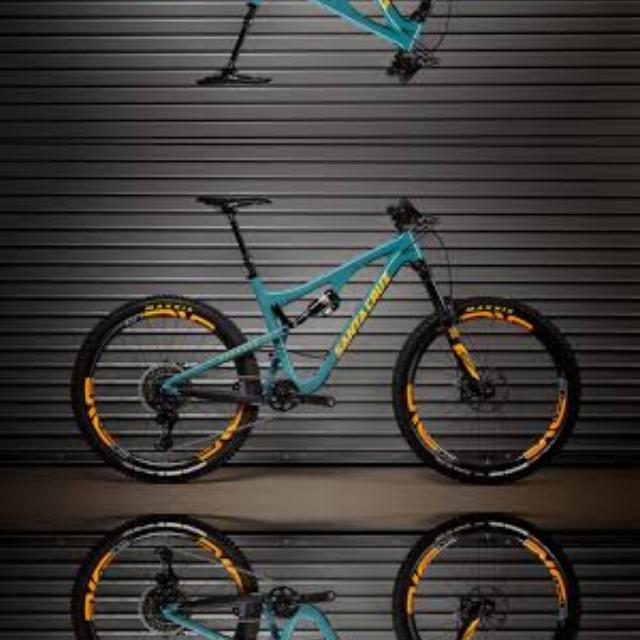obstacle: (56, 172, 594, 480), (56, 516, 593, 640), (56, 0, 593, 108)
